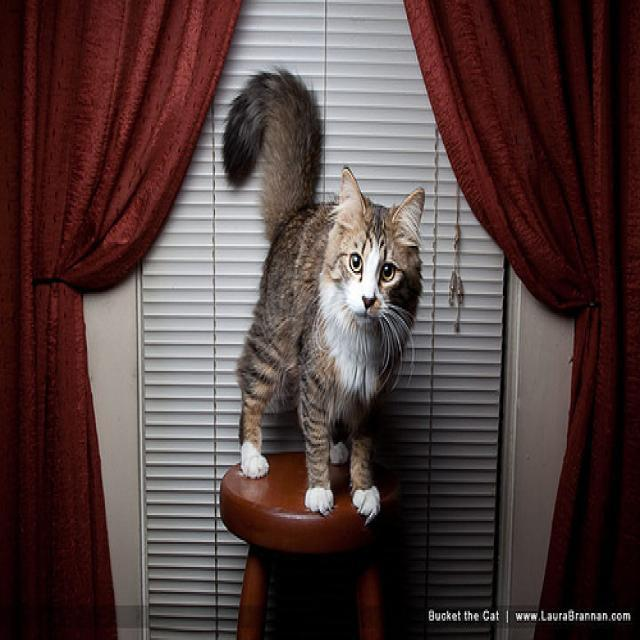Maine_Coon: (330, 164, 427, 342)
